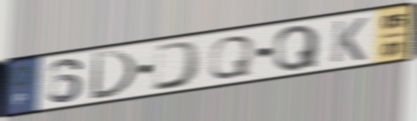6: (47, 57, 84, 104)
D: (151, 38, 204, 93), (87, 49, 140, 102)
K: (329, 15, 370, 65)
Q: (272, 23, 321, 74), (206, 34, 257, 81)
